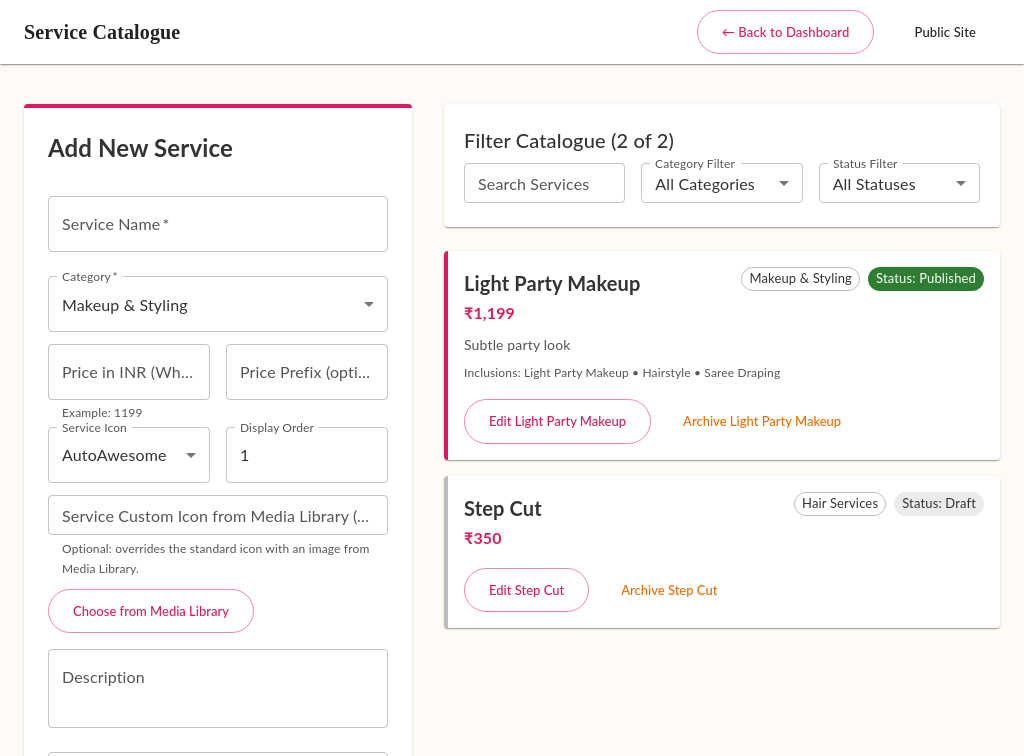
it: Ticket 3 — Admin Service Catalogue CRUD (/admin/services) › edits an existing service and archives a service via confirmation dialog
The width and height of the screenshot is (1024, 756).
Click the button "Edit Light Party Makeup" at (558, 421), box [464,399,651,444]
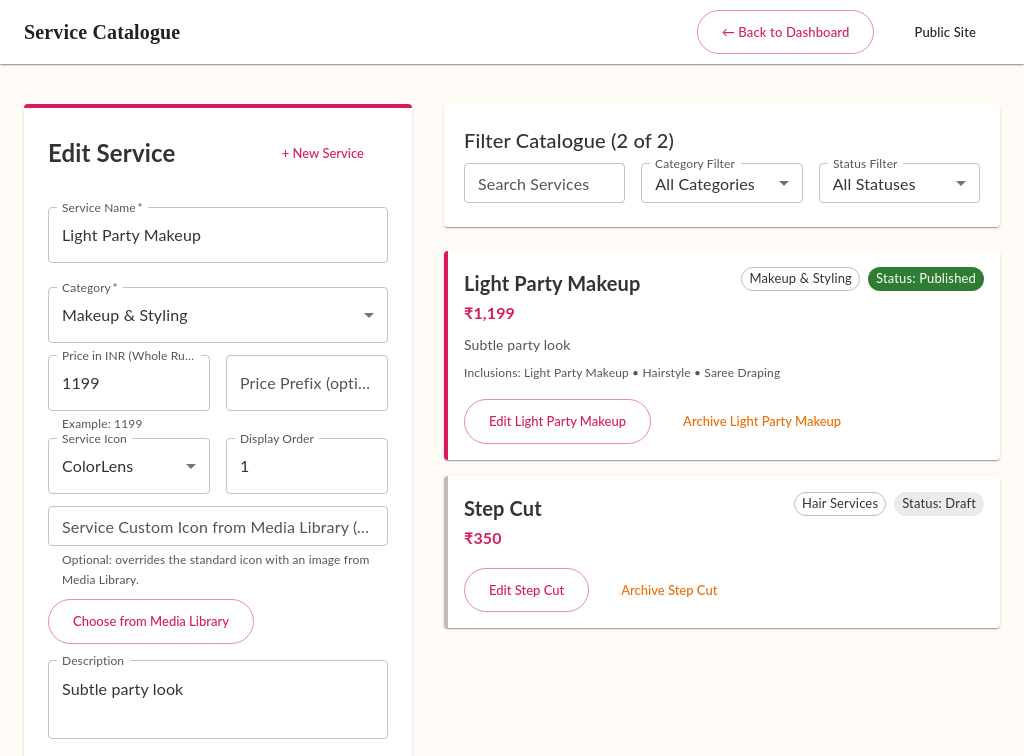
Result: the field labelled "Price in INR (Whole Rupees) *" holds "1199"
Replace the text in the field labelled "Price in INR (Whole Rupees) *" with "1299" at (129, 383), box [48,355,210,411]
(page scrolled)
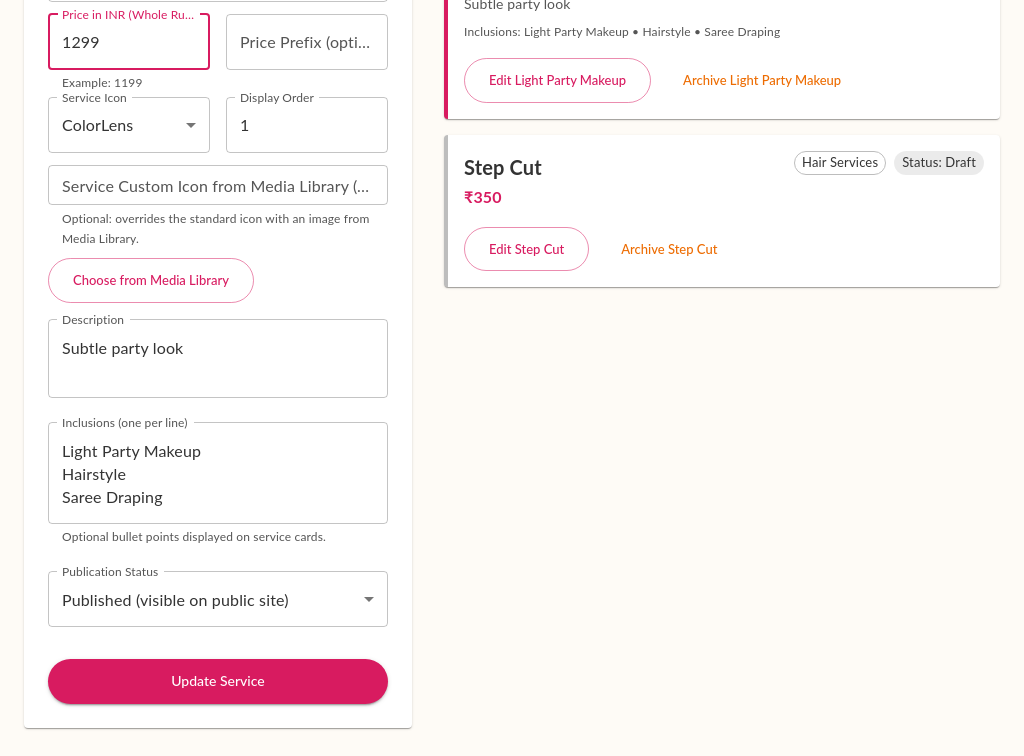
Click the button "Update Service" at (218, 681), box [48,659,388,704]
(page scrolled)
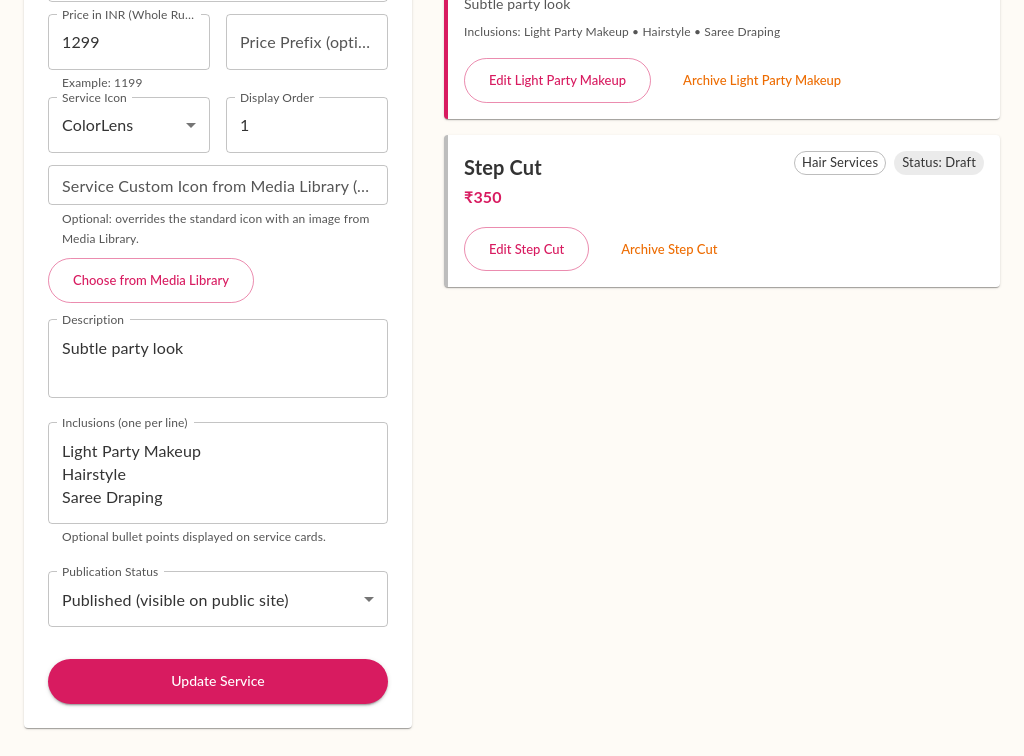
Archive Step Cut
Click the button "Archive Step Cut" at (669, 249), box [597,228,741,270]
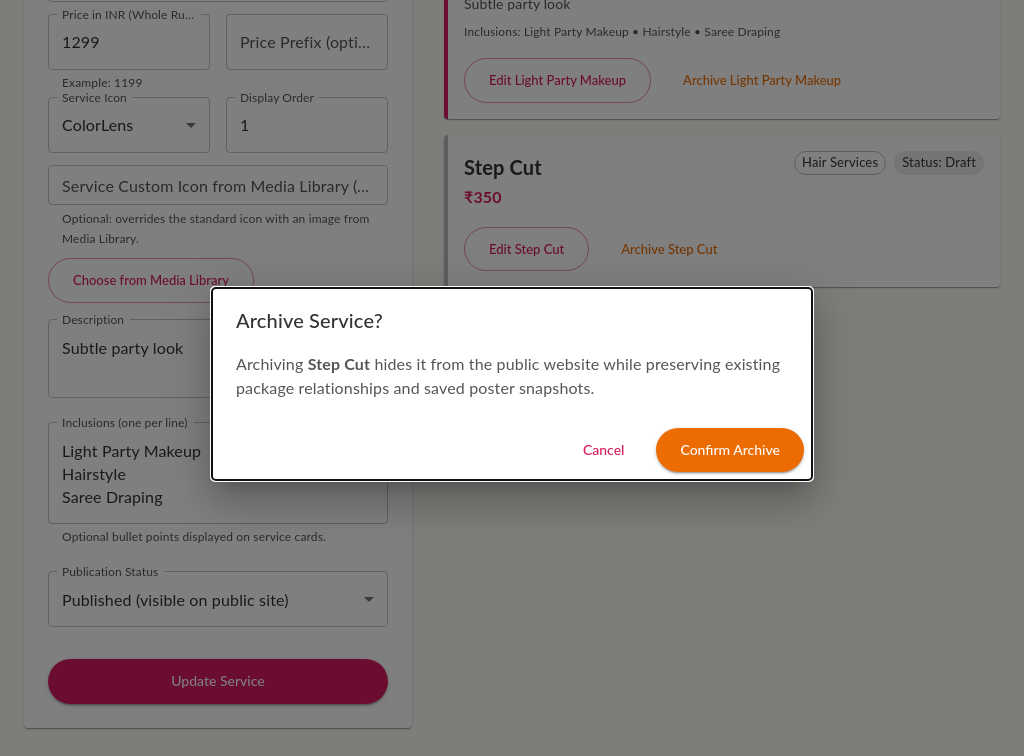
Result: the heading "Archive Service?" is shown at [236,308,383,332]
Click the button "Confirm Archive" at (730, 450), box [656,428,804,472]
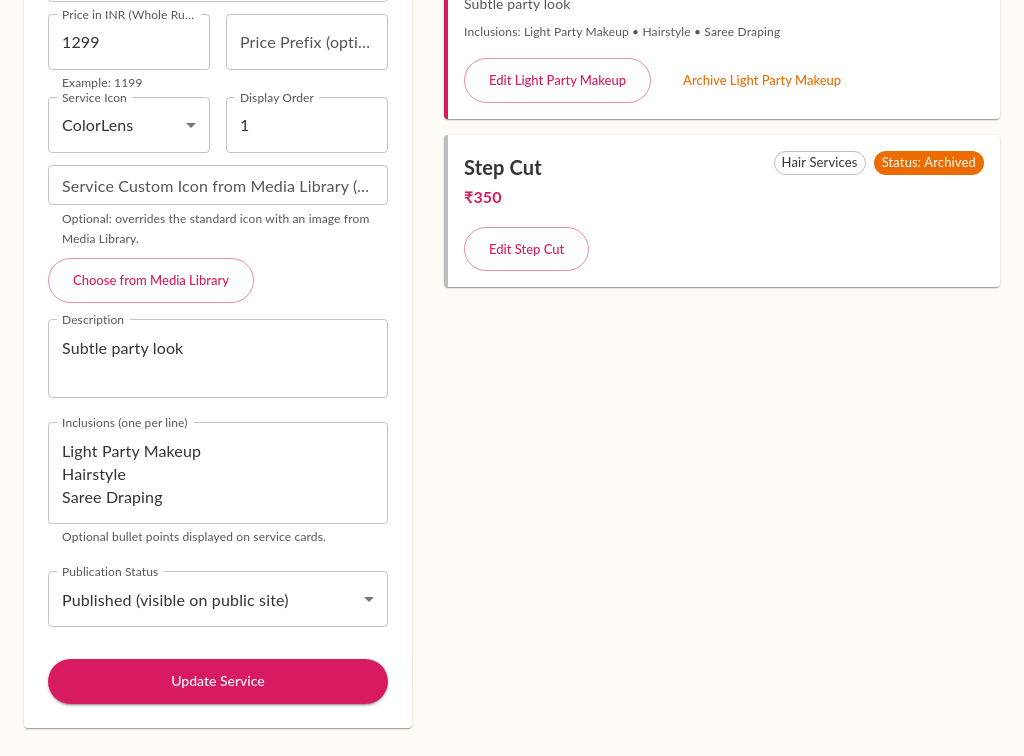
Result: the text "Status: Archived" is shown at [874,153,984,172]
